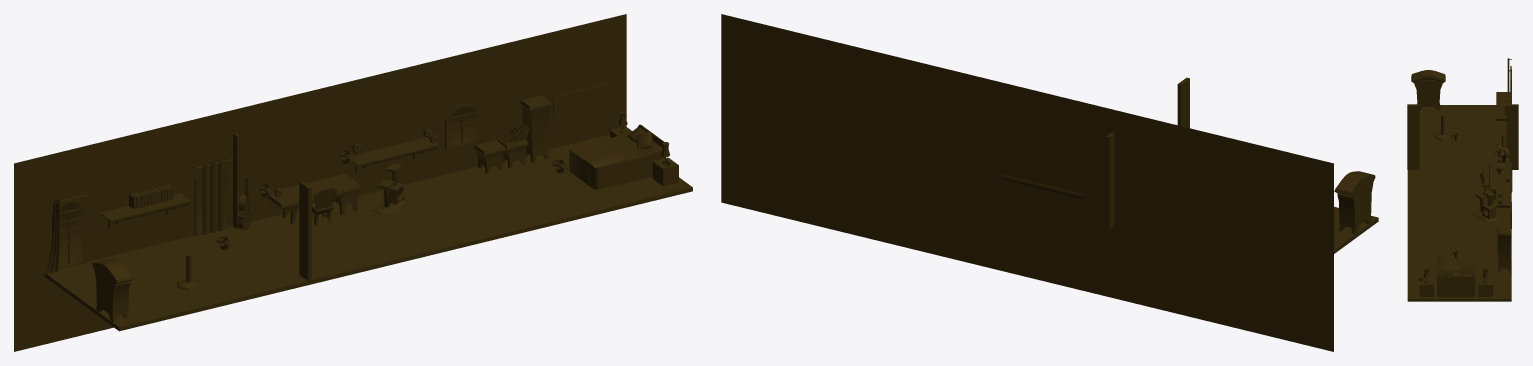
File: lvl1.fbx
The picture shows the model from 3 angles, left to right: view 1: azimuth 30°, elevation 25°; view 2: azimuth 150°, elevation 25°; view 3: azimuth 270°, elevation 25°; orthographic projection. The views are drawn at different scales.
Visible parts, largest first — view 1: Box001; view 2: Box001; view 3: Box001.
Boxes of the visible parts, x1,y1,x2,y2 form: Box001: (14, 14, 692, 351); Box001: (721, 14, 1378, 351); Box001: (1407, 58, 1518, 301).
Size of the model in its own units: 85 by 25 by 19.35.
